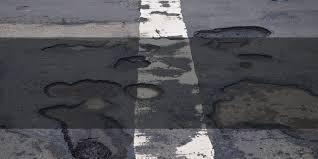pothole: (201, 75, 318, 130), (36, 104, 135, 159), (44, 76, 123, 103), (186, 24, 272, 43), (32, 40, 121, 56), (110, 53, 150, 71), (125, 83, 166, 100), (235, 52, 273, 63), (147, 9, 182, 19), (137, 42, 162, 54), (133, 15, 151, 24)
